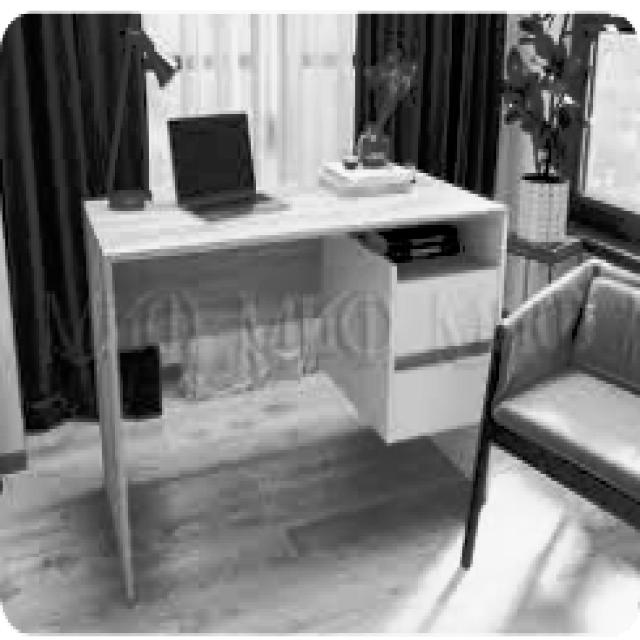book: (460, 256, 637, 612)
table: (78, 152, 510, 602)
